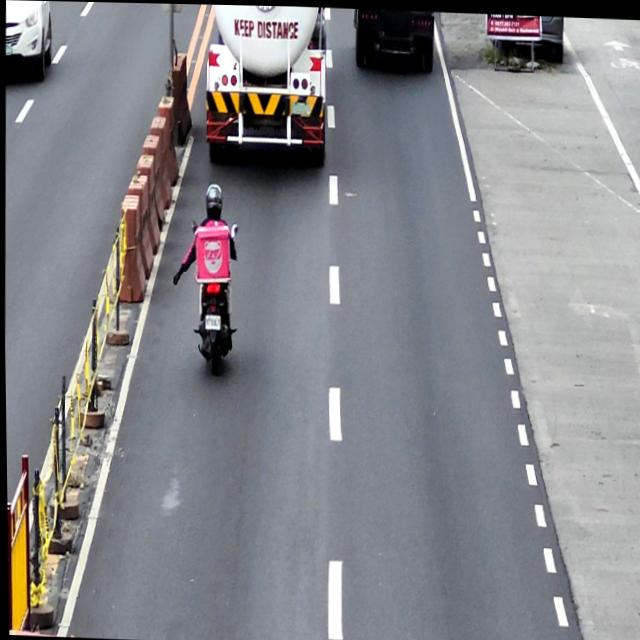License-Plate: (203, 311, 220, 331)
Motorcycle: (186, 218, 240, 377)
Truck: (202, 4, 330, 170)
